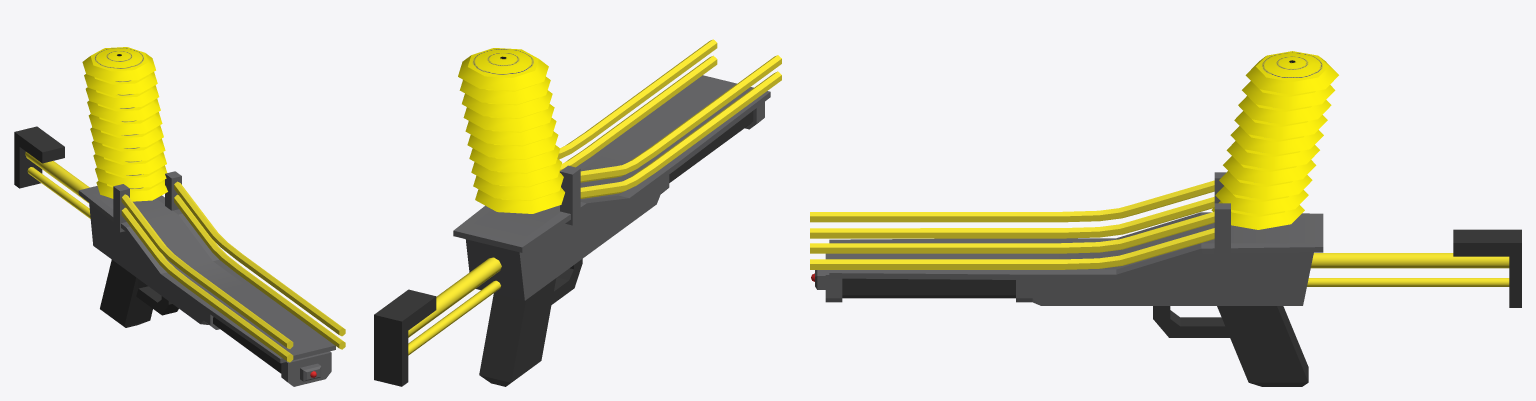
The model's file is CymbalShooter.FBX.
The picture shows the model from 3 angles, left to right: view 1: azimuth 30°, elevation 25°; view 2: azimuth 150°, elevation 25°; view 3: azimuth 270°, elevation 25°; orthographic projection. The views are drawn at different scales.
Visible parts, largest first — view 1: Cylinder010; view 2: Cylinder010; view 3: Cylinder010.
Boxes of the visible parts, x1,y1,x2,y2 form: Cylinder010: [14, 47, 345, 386]; Cylinder010: [374, 39, 781, 386]; Cylinder010: [810, 51, 1521, 386].
Bounding box in the file's own units: 12.51 × 46.31 × 85.96.
1 material, 1 textured.
